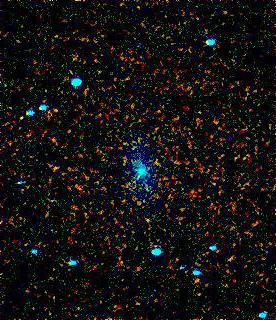star: (42, 96, 72, 126)
